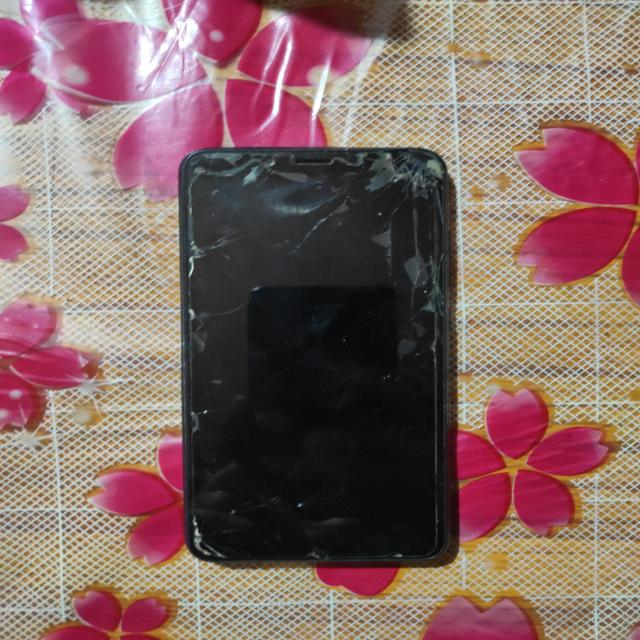Crack: (371, 147, 443, 365)
